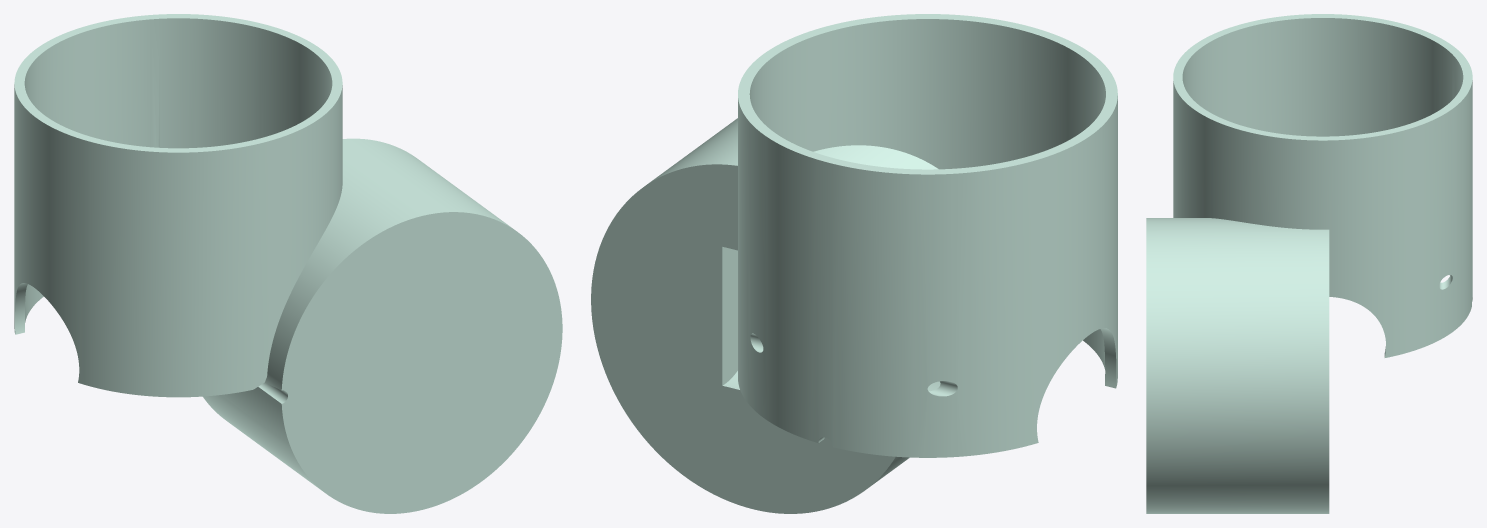
The picture shows the model from 3 angles, left to right: view 1: azimuth 30°, elevation 25°; view 2: azimuth 150°, elevation 25°; view 3: azimuth 270°, elevation 25°; orthographic projection. The views are drawn at different scales.
Parts seen in each view (by area): view 1: Renderer Node; view 2: Renderer Node; view 3: Renderer Node.
Part boxes in pixels (x1=…): Renderer Node: x1=14, y1=14, x2=562, y2=513; Renderer Node: x1=591, y1=14, x2=1117, y2=513; Renderer Node: x1=1146, y1=14, x2=1472, y2=513.
Size of the model in its own units: 1.06 by 0.9255 by 0.7656.
